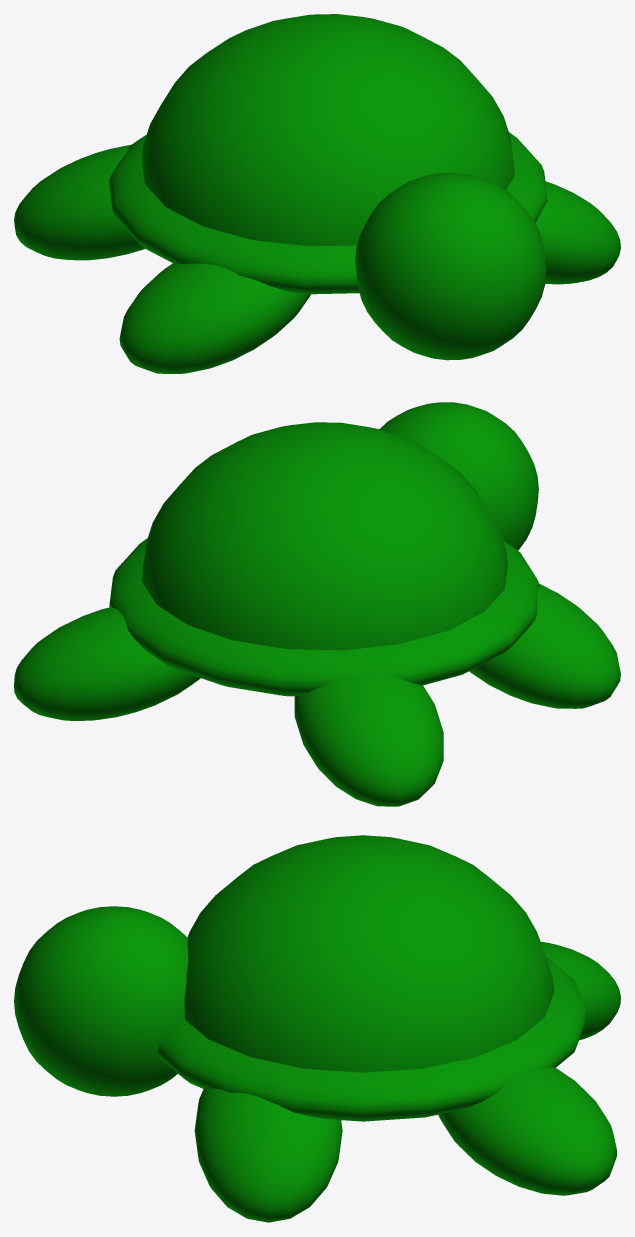
The model's file is SM_Kame_PlaceholderV2.fbx.
3 views of the same model, one above another, from view 1: azimuth 30°, elevation 25°; view 2: azimuth 150°, elevation 25°; view 3: azimuth 270°, elevation 25° (orthographic). The views are drawn at different scales.
Visible parts, largest first — view 1: SM_Kame_Placeholder; view 2: SM_Kame_Placeholder; view 3: SM_Kame_Placeholder.
Part boxes in pixels (bbox=[...]): SM_Kame_Placeholder: bbox=[14, 14, 620, 373]; SM_Kame_Placeholder: bbox=[14, 402, 620, 806]; SM_Kame_Placeholder: bbox=[14, 835, 620, 1222].
Size of the model in its own units: 143 by 71.07 by 151.
